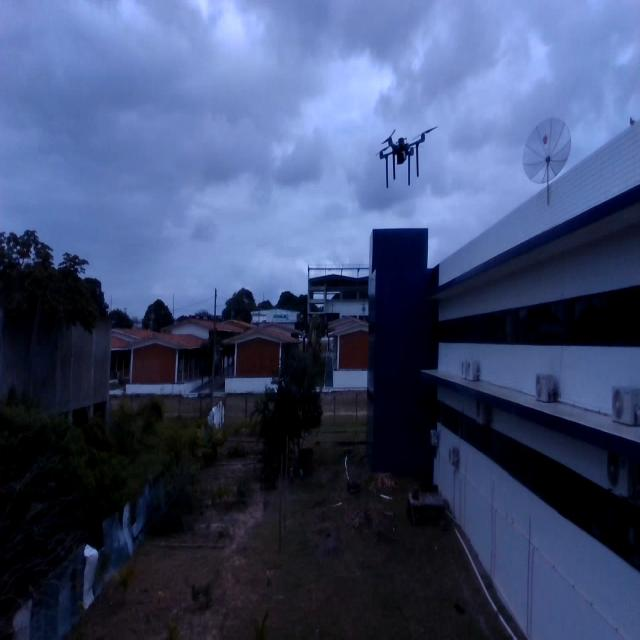-uav-: (372, 120, 440, 193)
